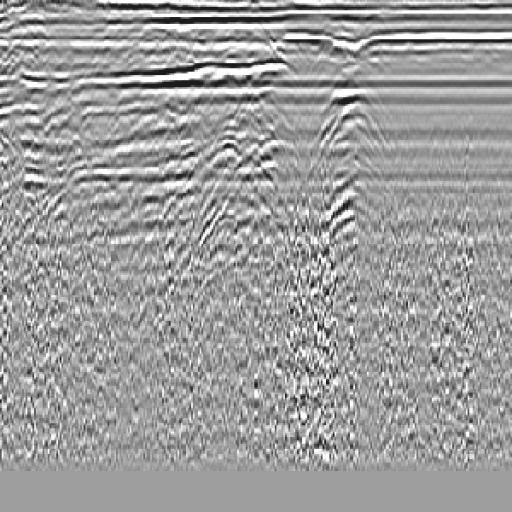metalic: (289, 59, 426, 284)
non-metallic: (134, 111, 293, 285)
